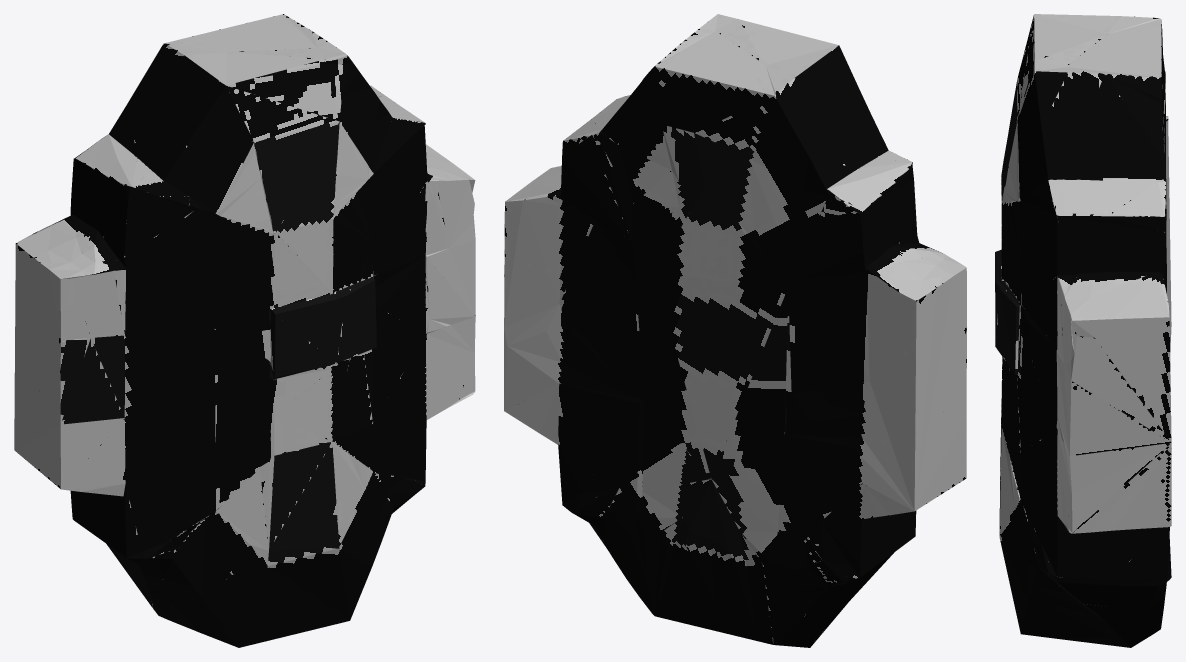
The picture shows the model from 3 angles, left to right: view 1: azimuth 30°, elevation 25°; view 2: azimuth 150°, elevation 25°; view 3: azimuth 270°, elevation 25°; orthographic projection.
Visible parts, largest first — view 1: OBJ0a4; view 2: OBJ0a4; view 3: OBJ0a4.
Boxes of the visible parts, x1,y1,x2,y2 form: OBJ0a4: (14,14,475,647); OBJ0a4: (504,14,966,647); OBJ0a4: (995,14,1171,647).
Size of the model in its own units: 0.0878 by 0.1139 by 0.0322.
Materials: 1 (1 with a texture image).
